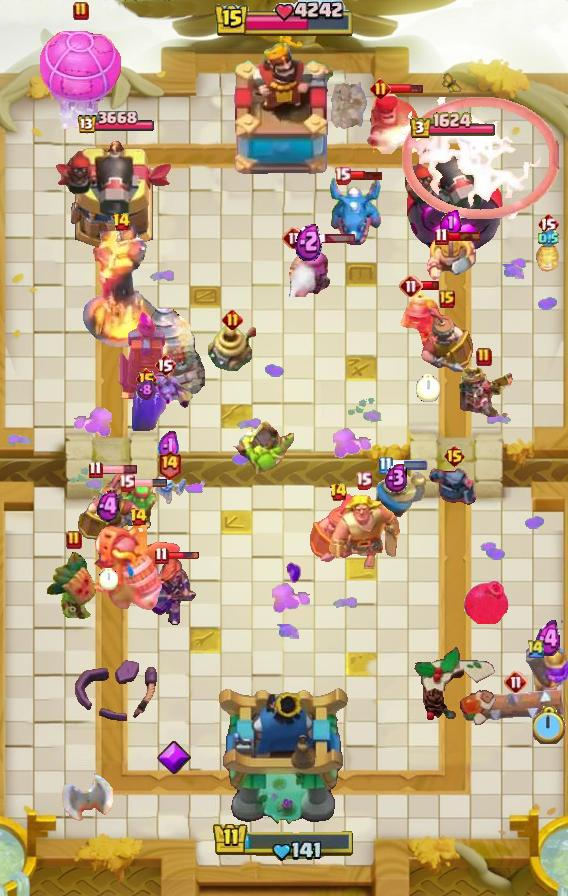axe: (61, 755, 115, 823)
bar: (304, 233, 356, 244), (388, 82, 424, 95), (446, 230, 482, 242), (101, 464, 138, 475), (348, 170, 384, 181), (390, 460, 428, 470), (132, 478, 168, 488), (166, 551, 200, 561), (421, 280, 440, 291)
bar-level: (157, 449, 182, 480), (504, 670, 528, 694), (399, 274, 423, 298), (282, 226, 306, 250), (443, 444, 466, 468), (135, 367, 158, 391), (154, 353, 176, 377), (537, 212, 559, 236), (222, 309, 243, 330), (370, 78, 391, 99), (526, 638, 546, 659), (129, 507, 148, 527), (329, 482, 348, 502), (112, 212, 131, 232), (118, 473, 135, 492), (355, 471, 372, 490), (334, 166, 351, 185), (66, 530, 82, 550), (476, 347, 492, 367), (73, 1, 89, 21), (439, 290, 455, 308), (154, 546, 169, 565), (88, 460, 103, 479), (378, 456, 393, 475), (434, 227, 449, 246)
bomb: (463, 579, 509, 624)
cannoneer-tower: (53, 138, 175, 256), (403, 138, 503, 256)
clock: (533, 706, 566, 744), (416, 374, 440, 402), (99, 568, 118, 590)
dart-goblin: (45, 551, 103, 621)
dirt: (331, 79, 369, 129)
electro-dragon: (328, 175, 382, 249)
electro-spirit: (126, 381, 166, 431)
elite-barbarian: (425, 233, 477, 281)
elixir: (535, 620, 563, 658), (295, 222, 322, 261), (384, 462, 409, 493), (97, 490, 120, 523), (158, 430, 180, 464), (440, 209, 462, 236), (538, 229, 559, 248), (137, 379, 155, 401)
evolution-symbol: (156, 740, 192, 776)
firecracker: (283, 241, 333, 297)
hunter: (364, 90, 422, 154)
king-tower: (216, 684, 352, 826), (228, 41, 340, 181)
king-tower-bar: (212, 821, 356, 863), (213, 0, 355, 40)
knight: (364, 468, 428, 524)
lava-pup: (534, 241, 562, 273)
little-prince: (455, 366, 514, 418)
miner: (398, 288, 458, 356)
mini-pekka: (428, 464, 480, 508)
minion: (134, 371, 196, 409)
musketeer: (526, 644, 568, 698)
royal-recruit: (77, 473, 139, 549), (310, 492, 366, 568), (420, 304, 474, 374)
skeleton: (152, 473, 186, 505)
spear-goblin: (115, 482, 159, 530)
the-log: (461, 689, 568, 725)
tower-bar: (409, 112, 497, 140), (75, 111, 154, 136)
valkyrie-evolution: (146, 556, 198, 628)
zappy: (208, 323, 256, 371)
